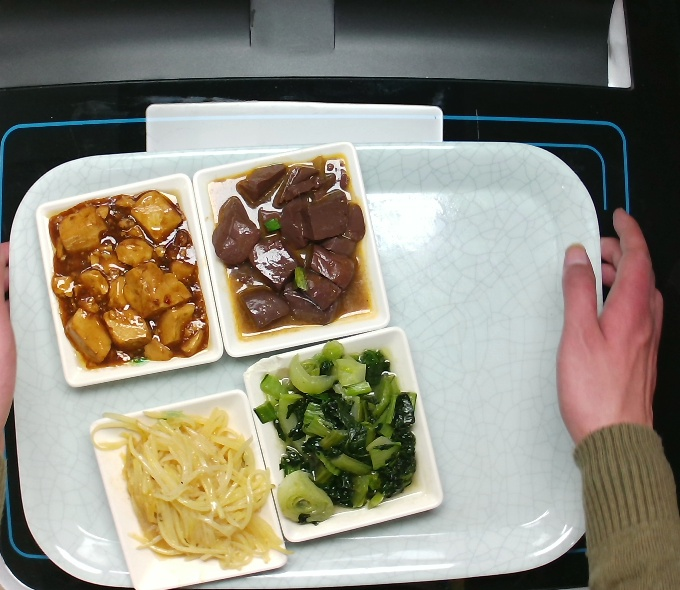wcq-MaPoDouFu: (36, 183, 204, 377)
wcq-NiuXue: (206, 145, 374, 339)
wcq-TuDouSi: (105, 394, 273, 588)
wcq-YouDongCai: (264, 343, 432, 537)
